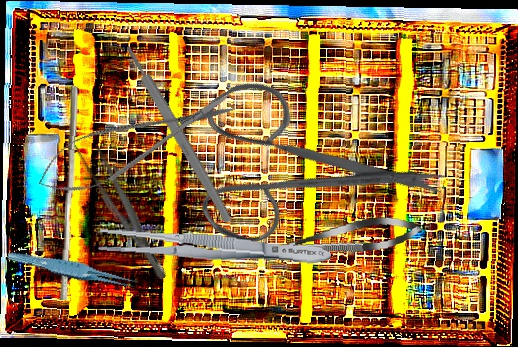Dressing Forceps: (70, 133, 176, 286), (97, 224, 332, 271)
Iris Scissors: (155, 16, 453, 305)
Micro Scissor: (28, 76, 243, 209), (261, 212, 424, 264)
Pusher: (58, 85, 79, 301)
Scalpel Handle: (123, 43, 234, 225)
Tissue Forceps: (6, 241, 141, 300)
